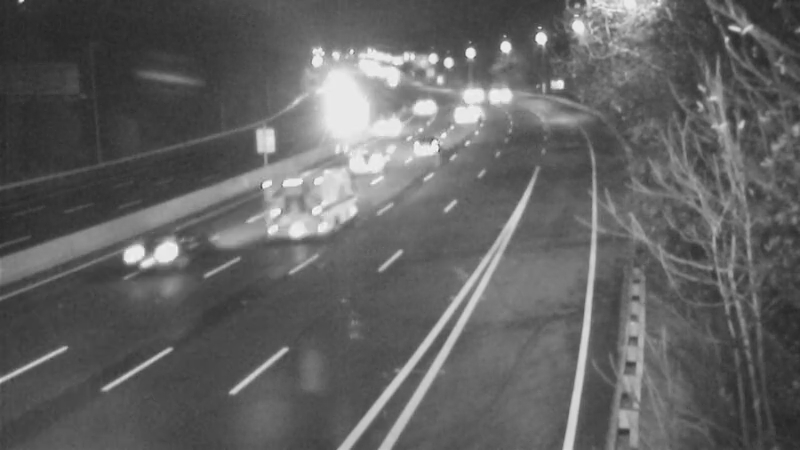vehicle: (334, 120, 414, 200), (268, 161, 348, 241), (107, 213, 187, 293), (445, 66, 495, 116), (471, 68, 521, 118), (393, 81, 443, 131), (435, 89, 485, 139), (362, 101, 412, 151), (406, 116, 456, 166)
